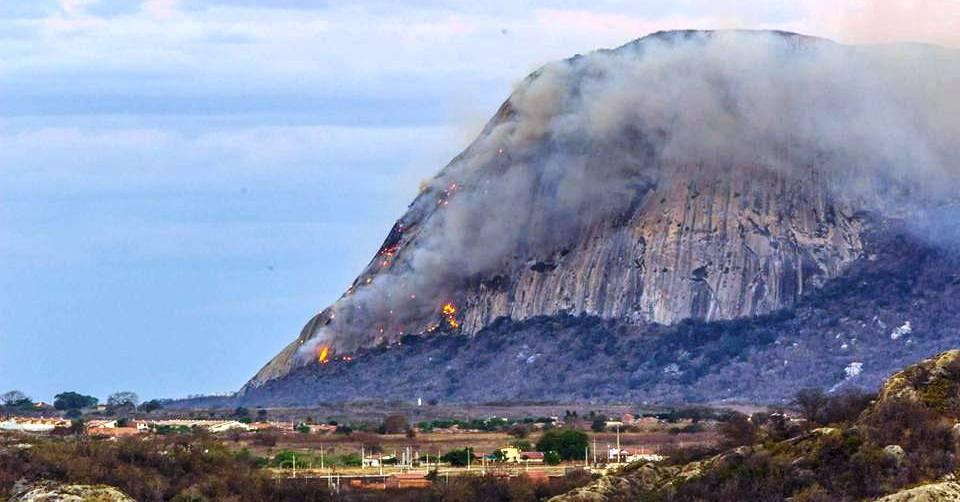smoke: (639, 46, 956, 150), (441, 175, 589, 245), (345, 275, 445, 311)
